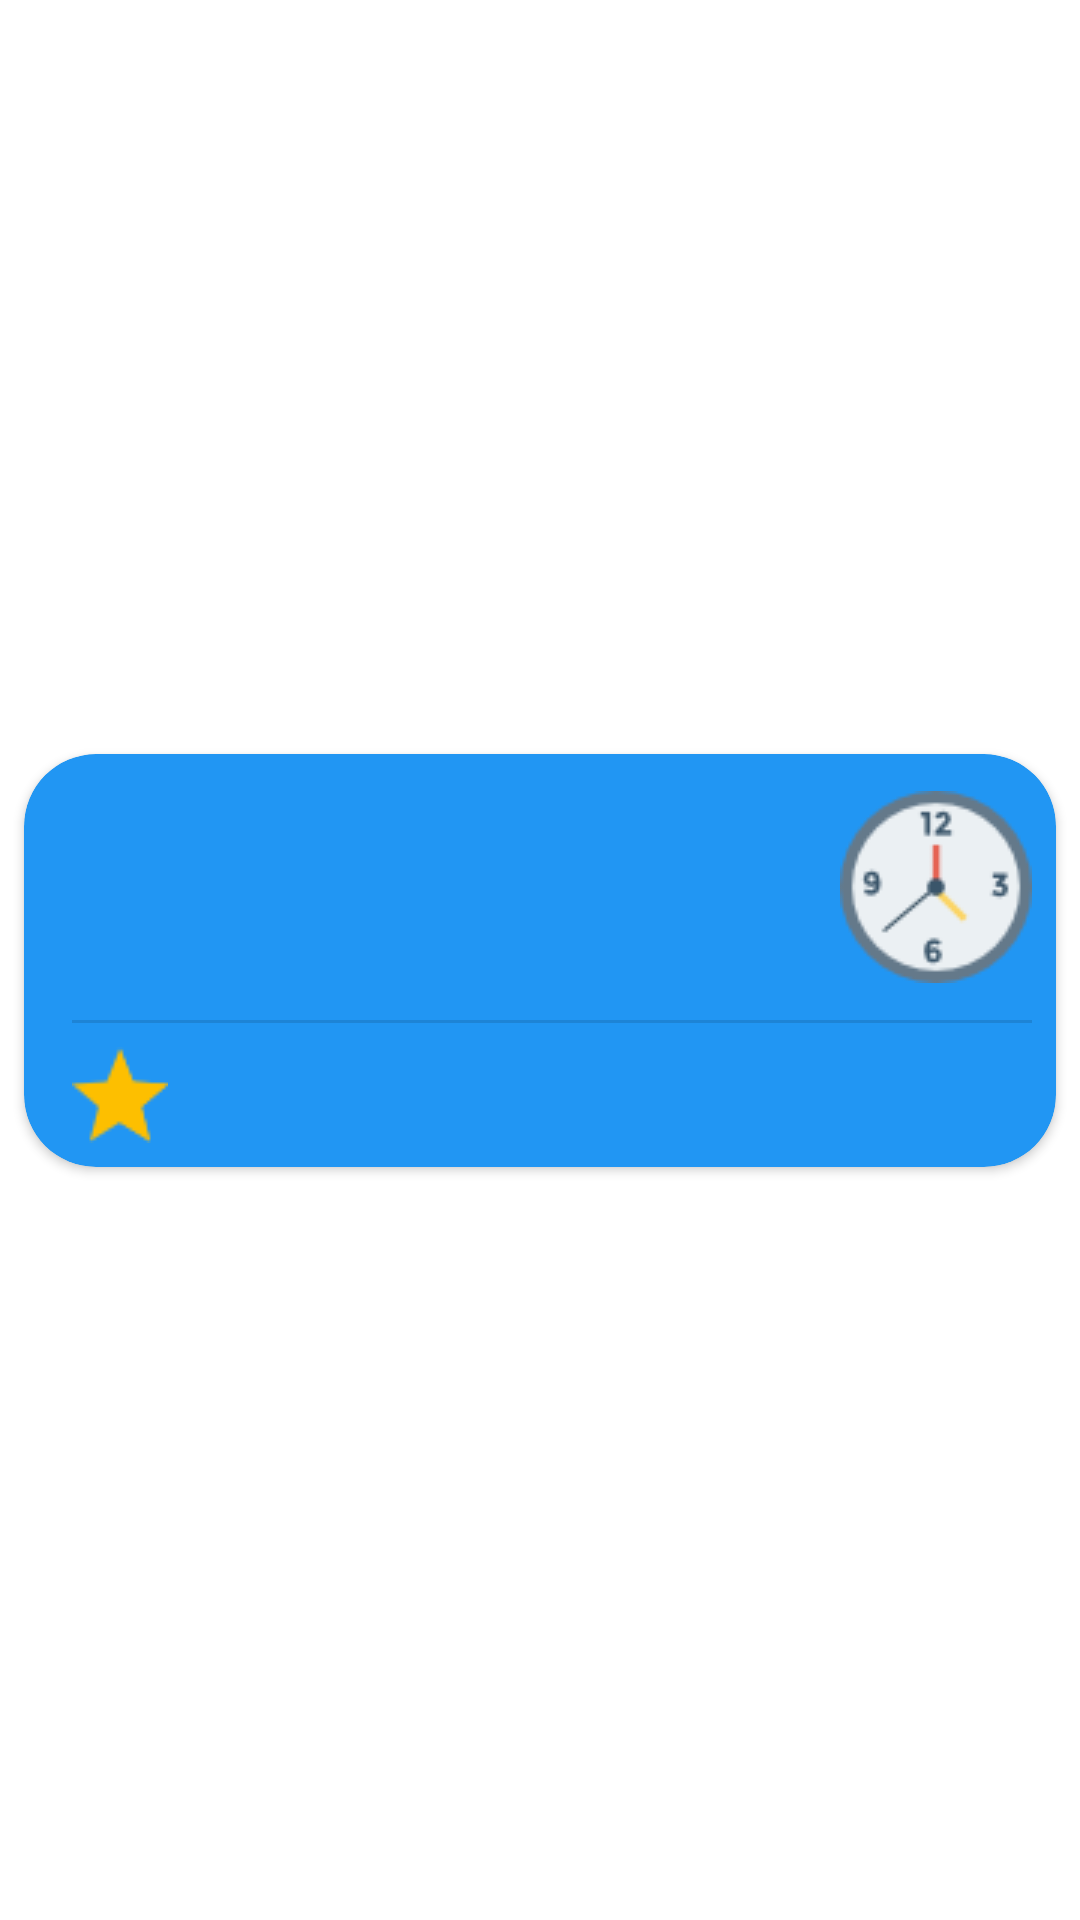

Where icons sit on this 1080 x 1920 app screen, as (x1, y1, x2, y2):
star: (72, 1049, 168, 1143)
time: (840, 791, 1032, 983)
